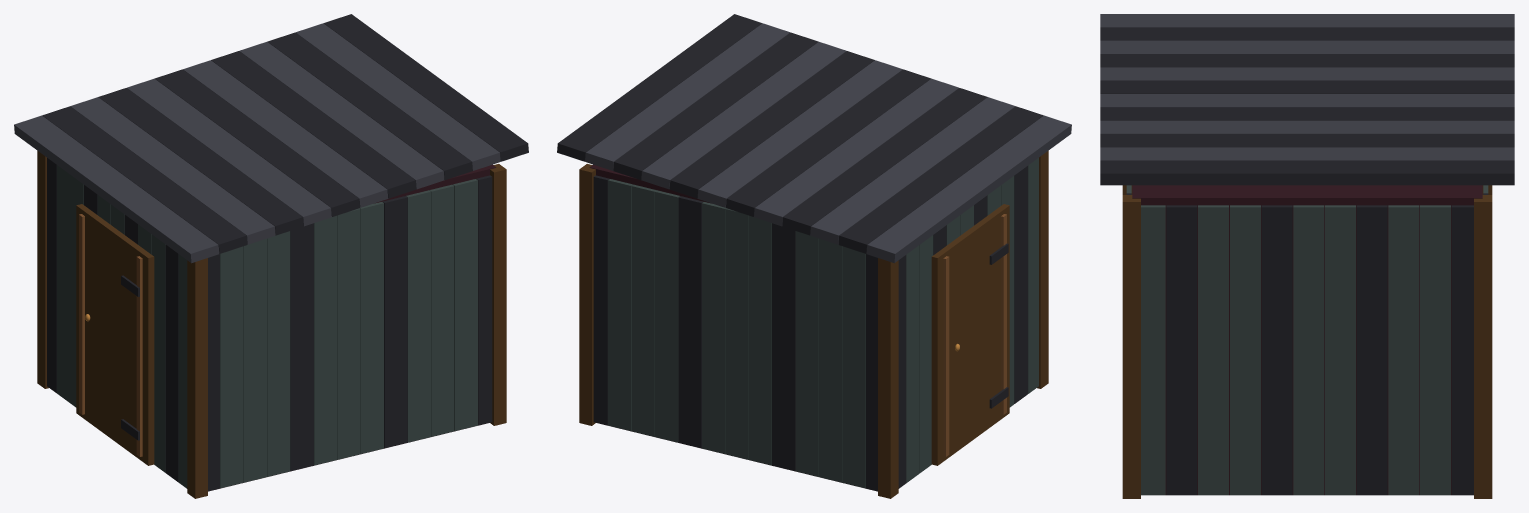
Rendered from mia-shed.glb.
3 views of the same model, side by side, from view 1: azimuth 30°, elevation 25°; view 2: azimuth 150°, elevation 25°; view 3: azimuth 270°, elevation 25° (orthographic). The views are drawn at different scales.
Parts seen in each view (by area): view 1: Body_shed-siding, Body_iron, Body_stone, Body_wood, Body_oak, Body_dark; view 2: Body_shed-siding, Body_iron, Body_stone, Body_wood, Body_oak, Body_dark; view 3: Body_iron, Body_shed-siding, Body_stone, Body_wood, Body_dark.
Boxes of the visible parts, bbox=[...] form: Body_shed-siding: bbox=[57, 165, 477, 488]; Body_iron: bbox=[42, 14, 528, 491]; Body_stone: bbox=[14, 23, 500, 263]; Body_wood: bbox=[37, 150, 506, 498]; Body_oak: bbox=[79, 214, 142, 456]; Body_dark: bbox=[208, 164, 496, 491]; Body_shed-siding: bbox=[608, 158, 1038, 488]; Body_iron: bbox=[557, 14, 1043, 491]; Body_stone: bbox=[585, 23, 1071, 263]; Body_wood: bbox=[579, 150, 1048, 498]; Body_oak: bbox=[943, 214, 1006, 456]; Body_dark: bbox=[589, 164, 877, 491]; Body_iron: bbox=[1100, 27, 1514, 495]; Body_shed-siding: bbox=[1126, 185, 1488, 495]; Body_stone: bbox=[1100, 14, 1514, 160]; Body_wood: bbox=[1122, 185, 1492, 498]; Body_dark: bbox=[1132, 185, 1482, 495].
Size of the model in its own units: 3.3 by 2.65 by 2.99.
